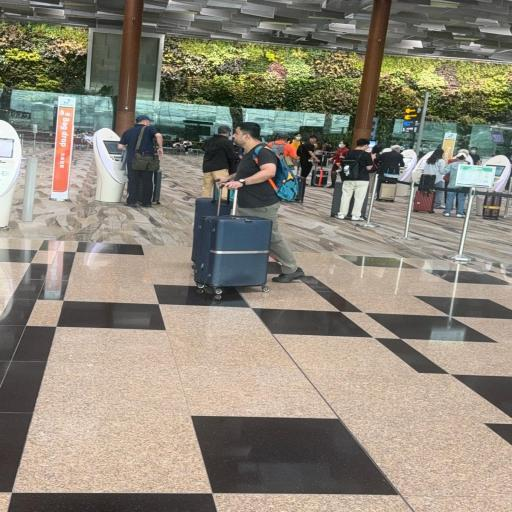person_left: (326, 140, 350, 189)
person_with_luggage_left: (212, 121, 306, 283)
